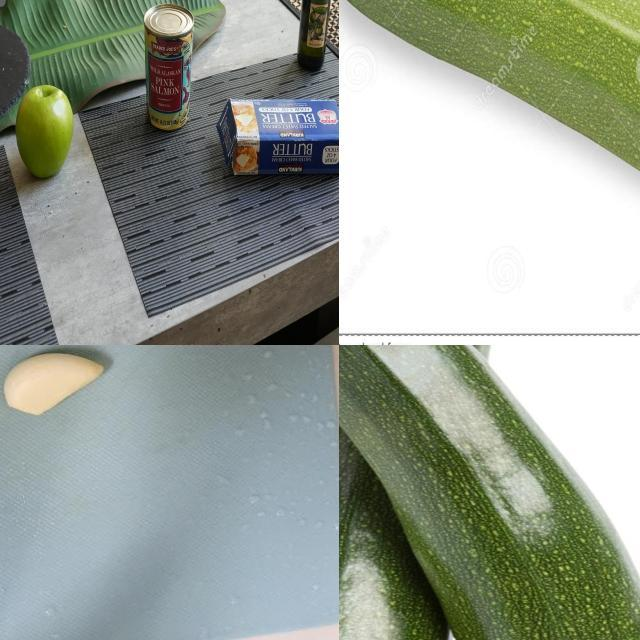garlic: (3, 350, 109, 420)
zucchini: (340, 1, 640, 314), (340, 346, 477, 640)
